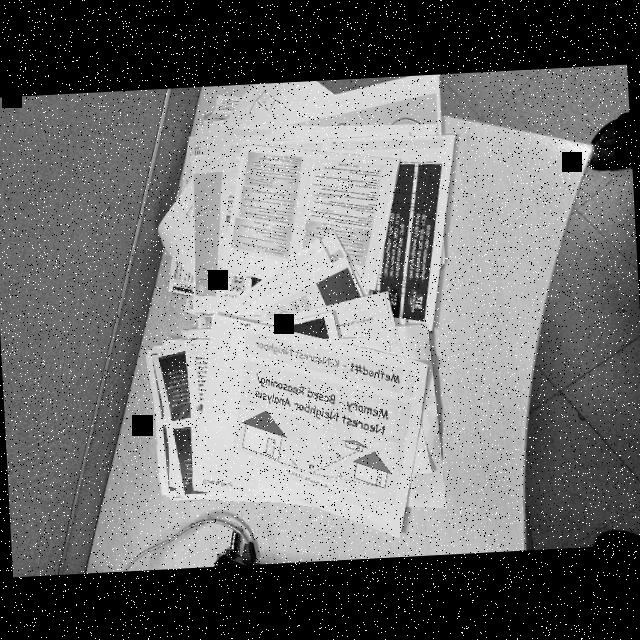reuseable_paper: (131, 72, 482, 544)
